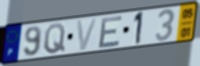1: (133, 10, 146, 47)
3: (154, 8, 177, 43)
9: (24, 25, 43, 58)
E: (97, 14, 124, 50)
Q: (43, 22, 67, 56)
V: (75, 17, 99, 52)
